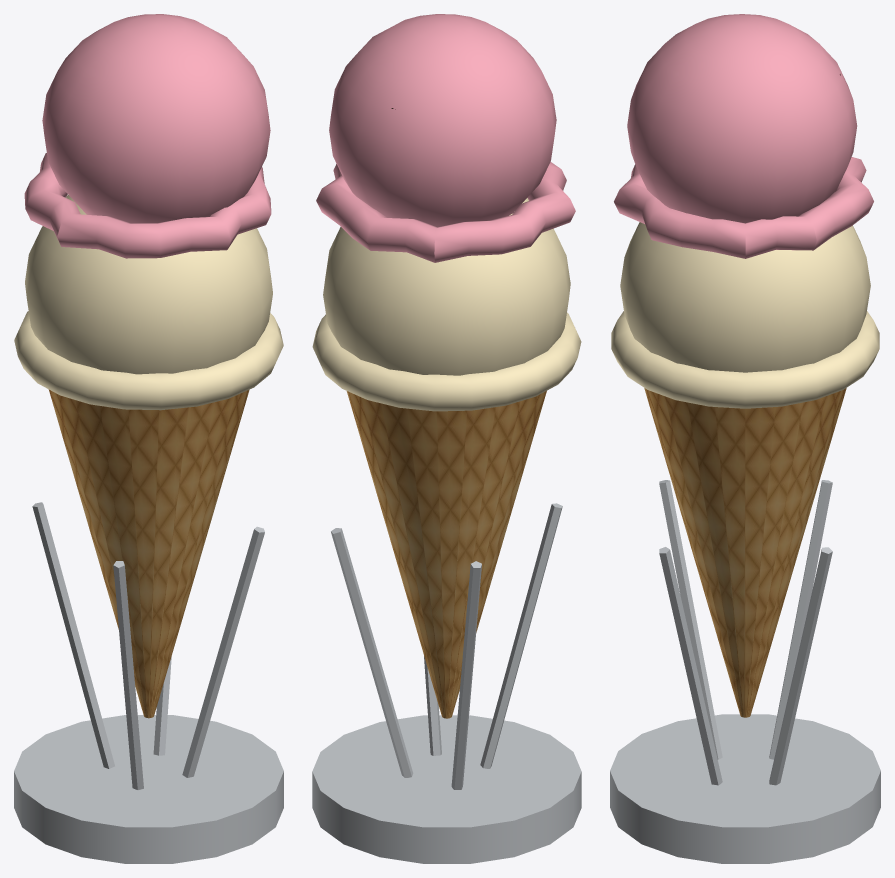
The model's file is dessert_ice_cream_cone_double.glb.
3 renders of one model, left to right at view 1: azimuth 30°, elevation 25°; view 2: azimuth 150°, elevation 25°; view 3: azimuth 270°, elevation 25°, orthographic.
Visible parts, largest first — view 1: dessert_ice_cream_cone_double; view 2: dessert_ice_cream_cone_double; view 3: dessert_ice_cream_cone_double.
Part boxes in pixels (bbox=[...]): dessert_ice_cream_cone_double: bbox=[14, 14, 283, 863]; dessert_ice_cream_cone_double: bbox=[312, 14, 581, 863]; dessert_ice_cream_cone_double: bbox=[610, 14, 880, 863].
Size of the model in its own units: 0.08 by 0.256 by 0.08.
5 materials, 1 textured.
